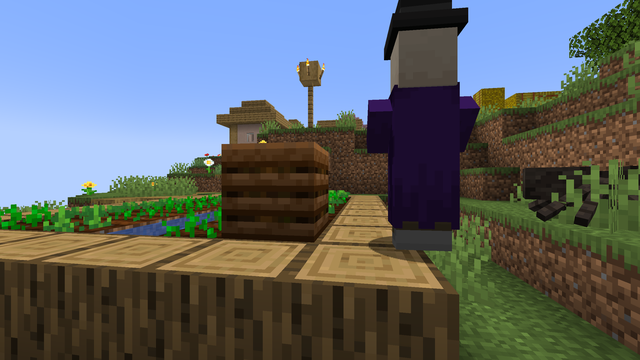araignees: (523, 157, 636, 229)
sorcieres: (384, 11, 467, 258)
